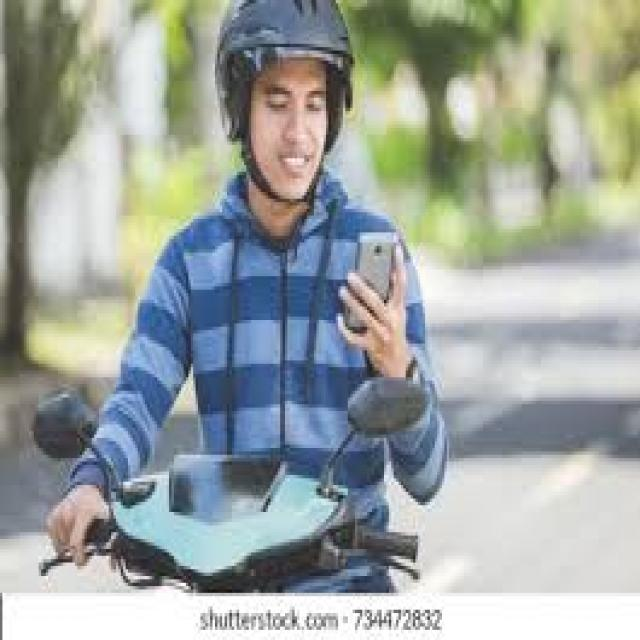Usage Of Phone While Riding: (234, 0, 479, 413)
